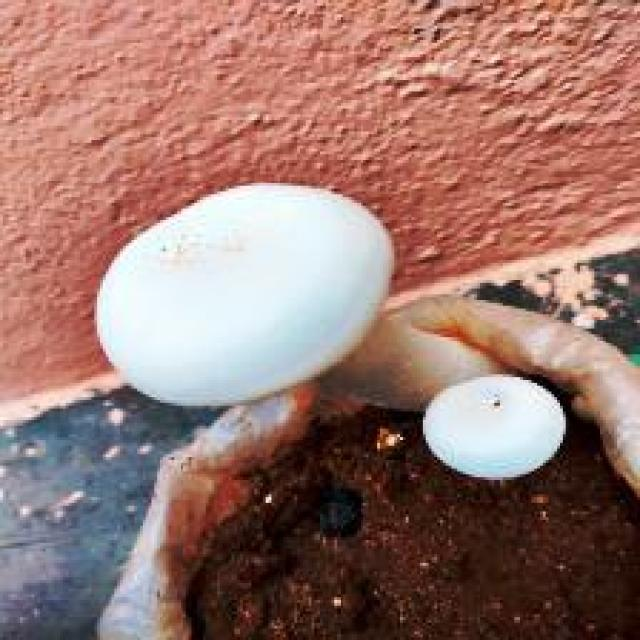chanterelle: (89, 180, 637, 637)
death-cap: (92, 177, 394, 409)
